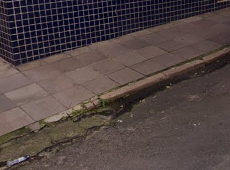vag12: (43, 10, 228, 154)
